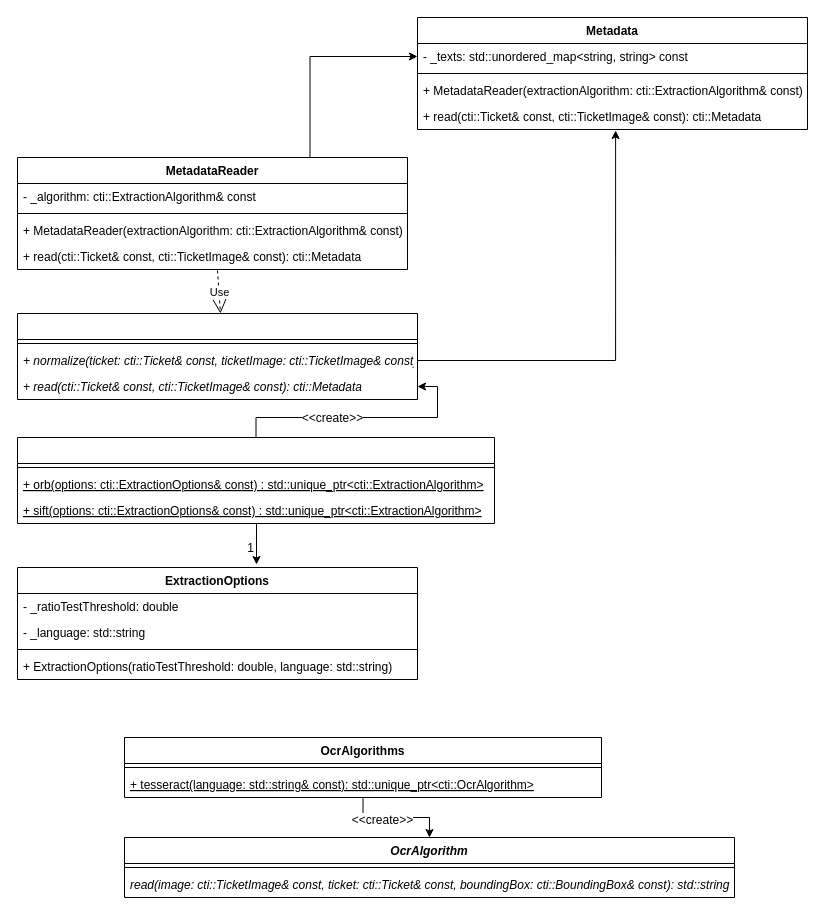
Some shapes in this 825 by 918 pixel diagram are drawn without their labels. The box of each missing label's shape, as (x1, y1, x2, y2) in pixels:
ExtractionAlgorithm: (16, 312, 418, 400)
ExtractionAlgorithms: (16, 436, 494, 524)
